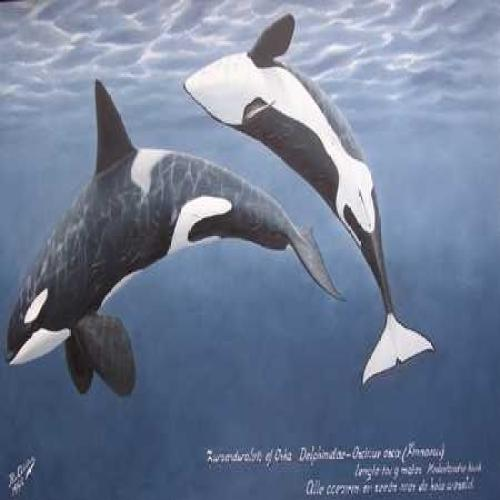killer_whale-endangered: (10, 79, 327, 392), (180, 5, 432, 361)
